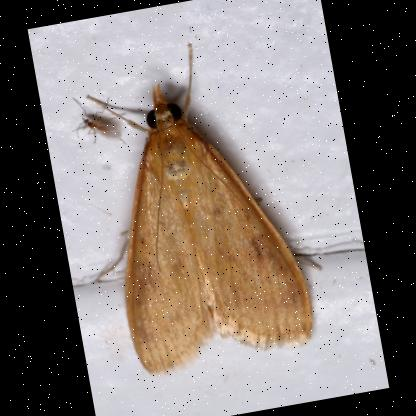Asian Corn Borer Moth: (51, 23, 338, 388)
